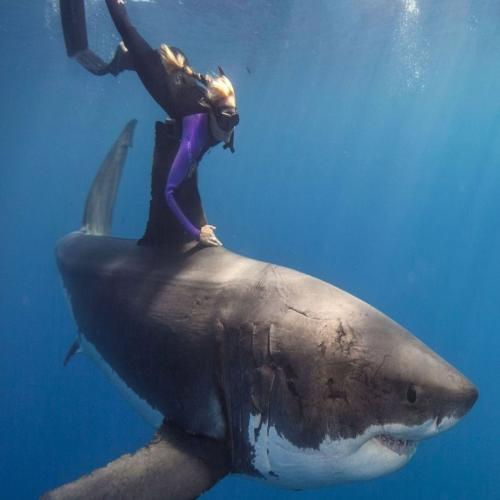shark-endangered: (50, 198, 483, 495)
